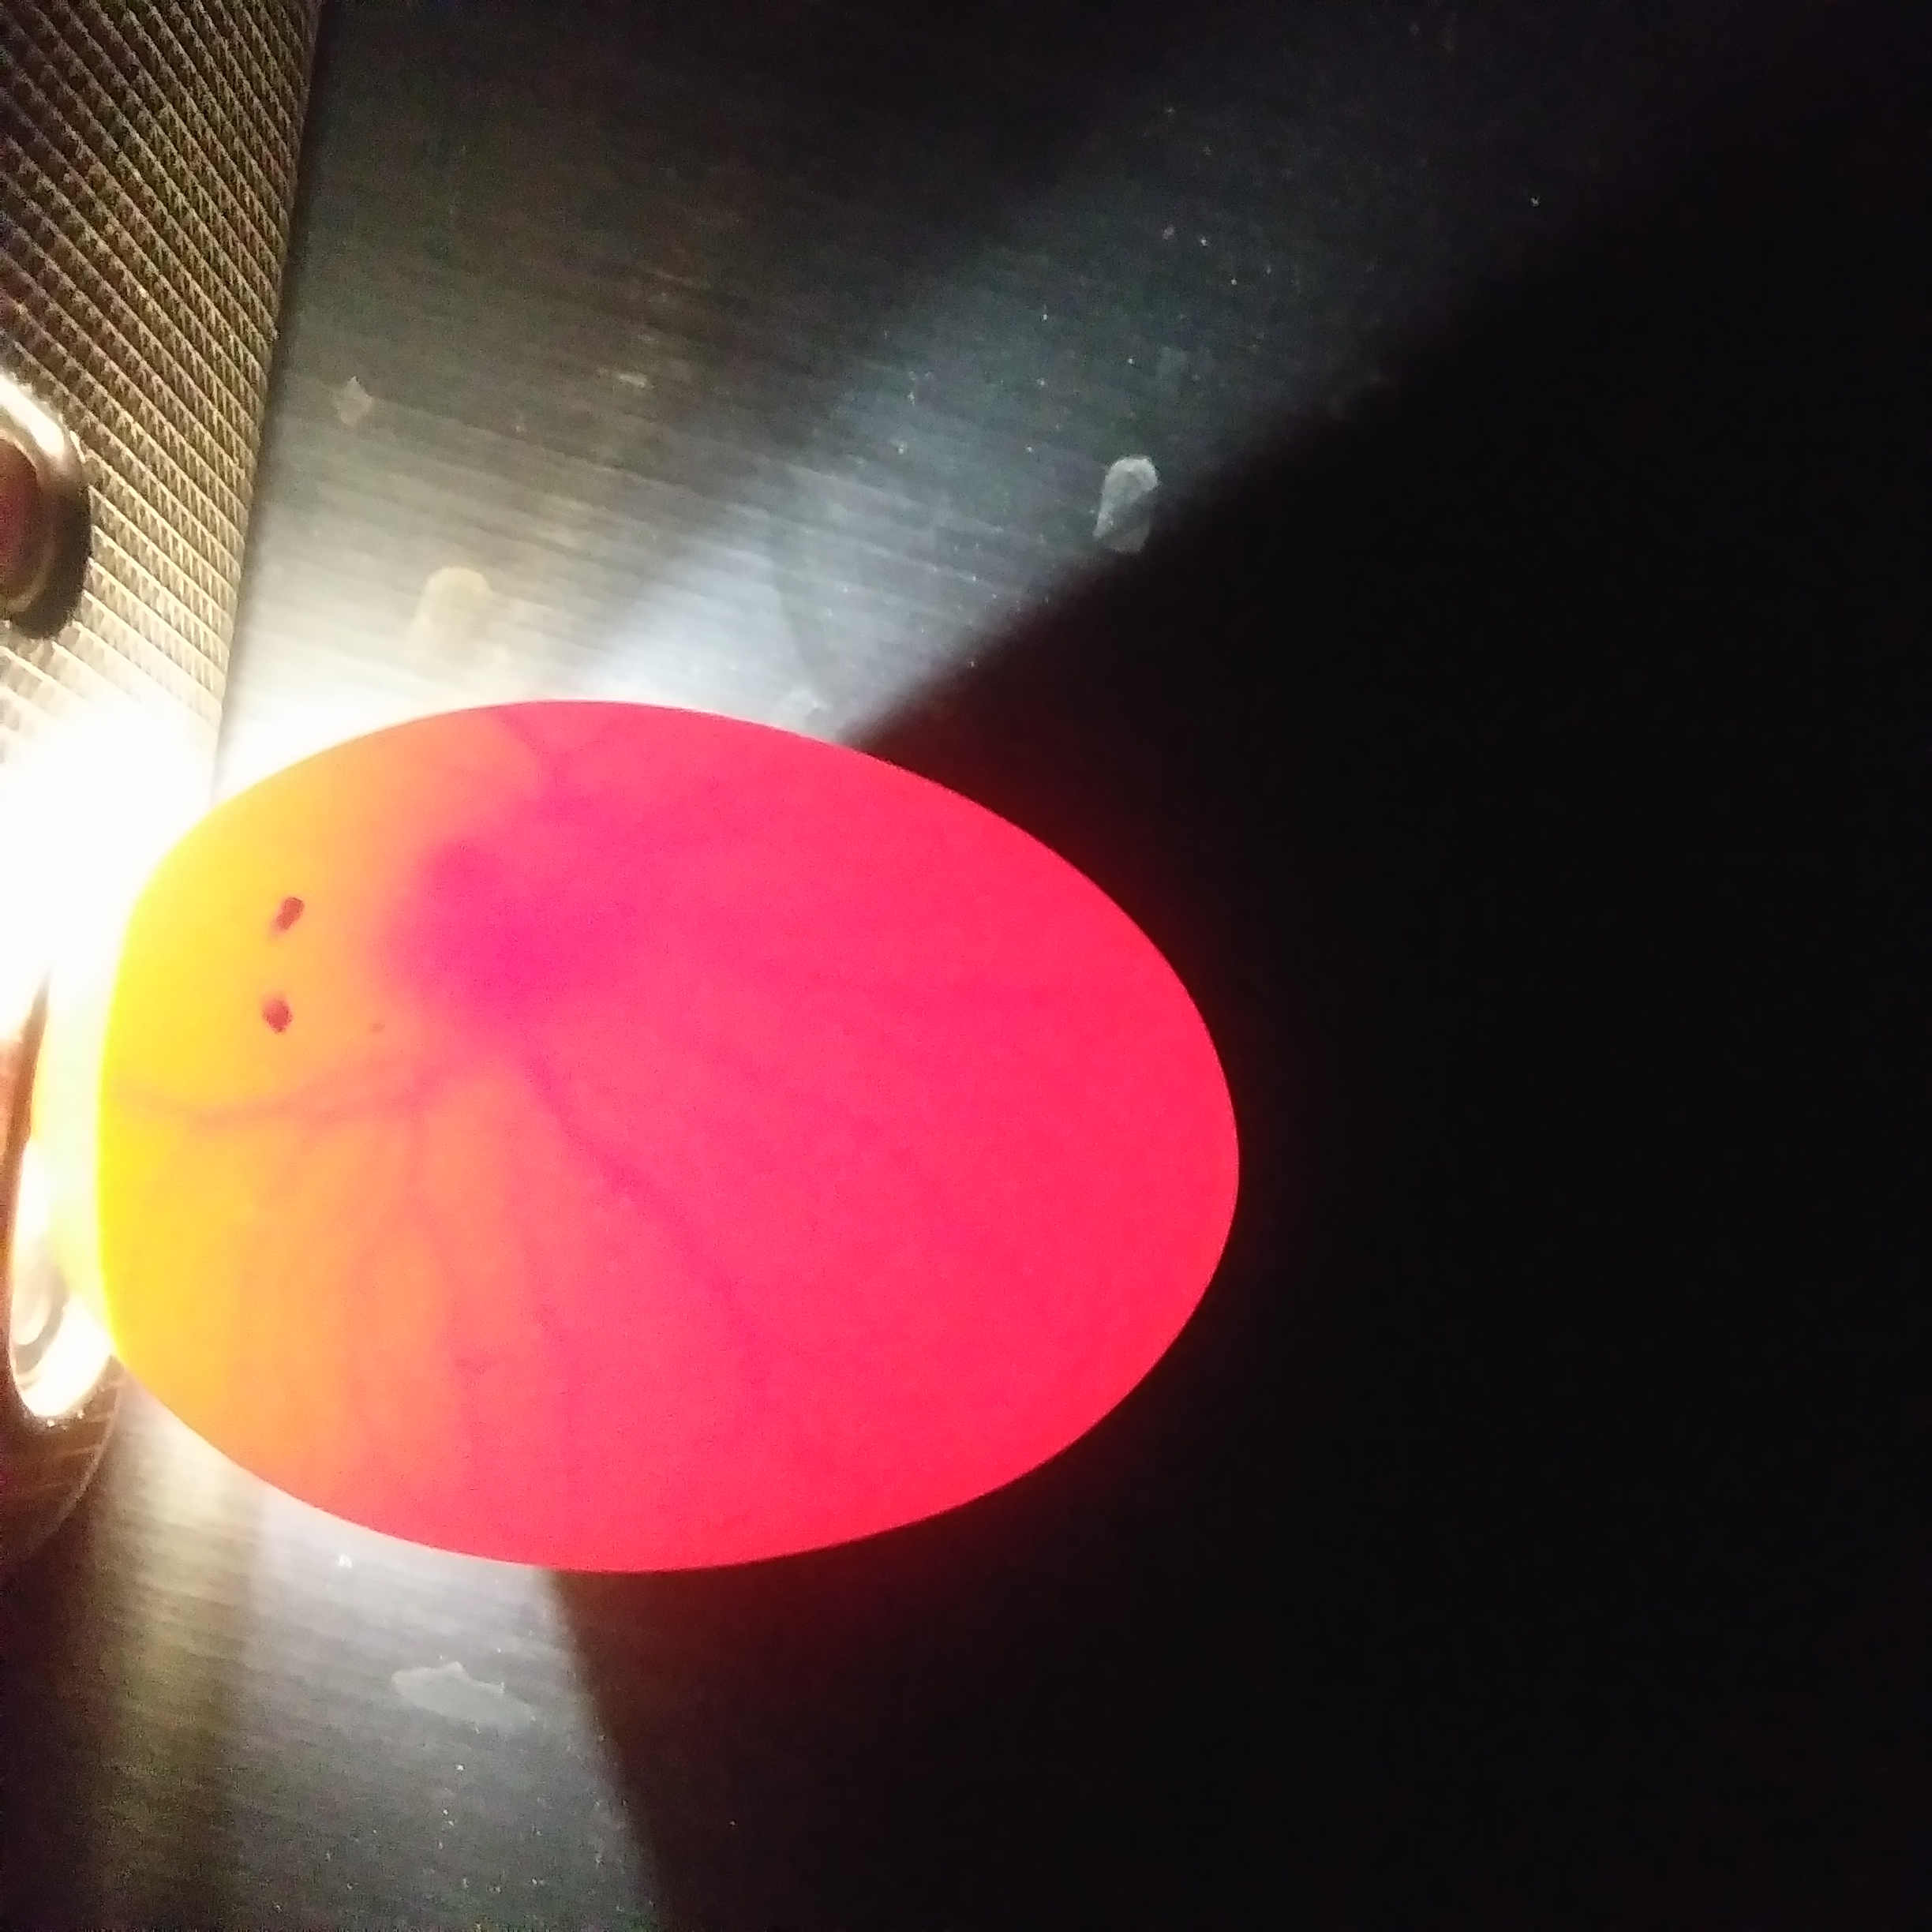bloodcell: (133, 1076, 1003, 1477)
embryo: (403, 860, 586, 1026)
